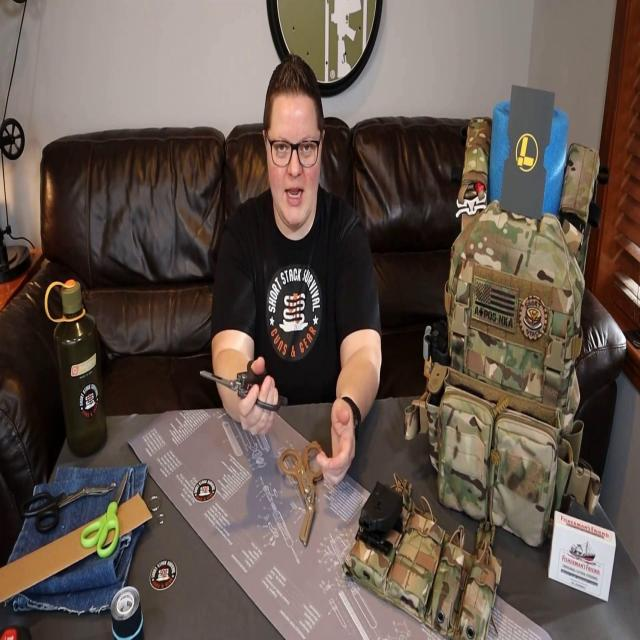scissor: (20, 481, 116, 533), (279, 440, 325, 548), (198, 357, 288, 412), (80, 473, 128, 558)
